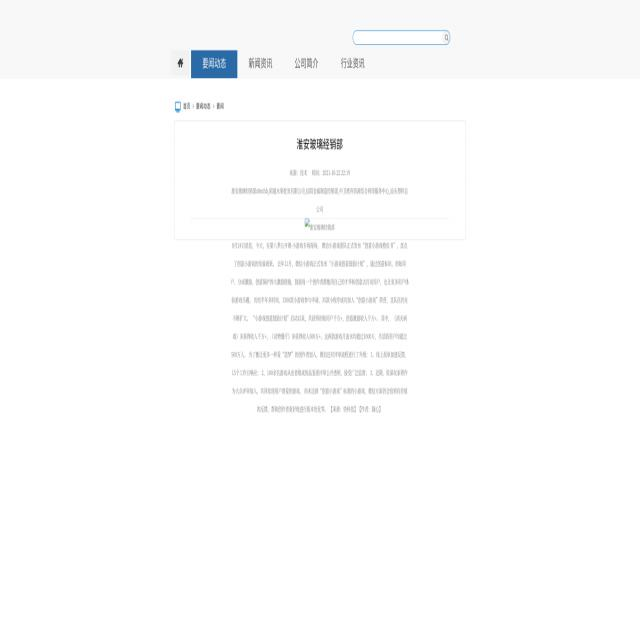button: (191, 50, 238, 78), (171, 50, 189, 76), (443, 32, 449, 43)
field: (353, 30, 450, 44)
